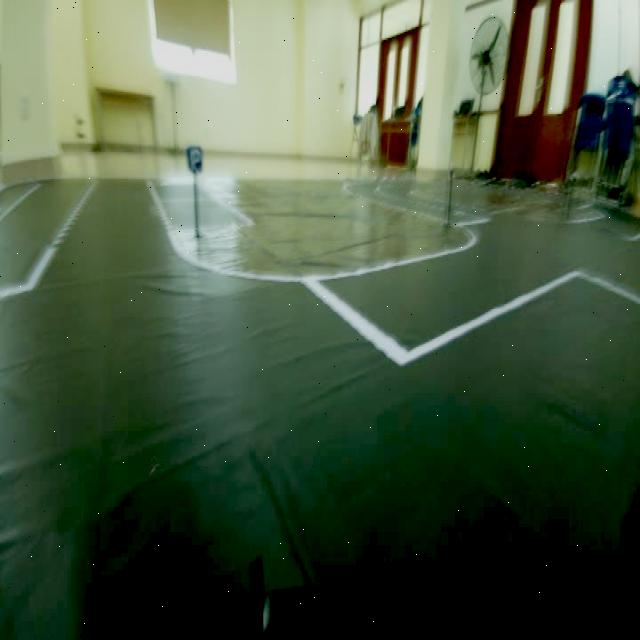parking: (185, 134, 208, 180)
